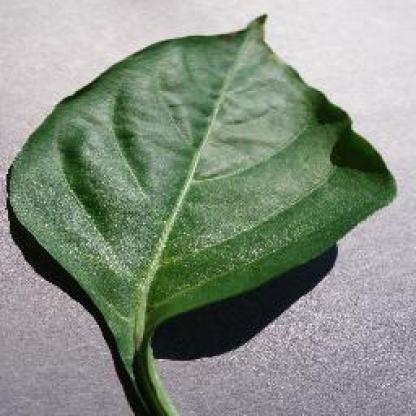good leaf: (43, 40, 360, 329)
